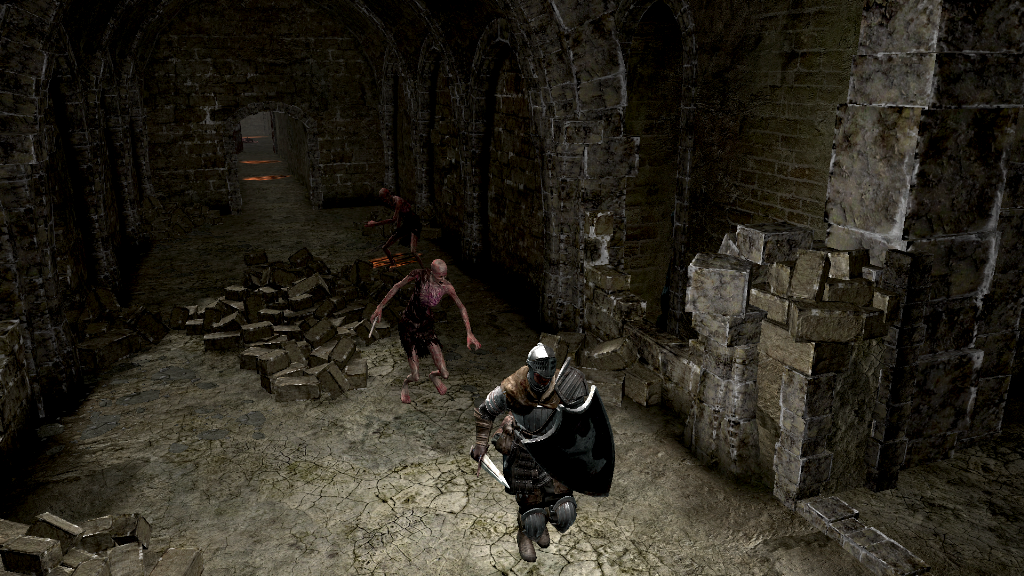hollow: (371, 256, 482, 406), (365, 185, 427, 274)
player: (472, 338, 620, 561)
